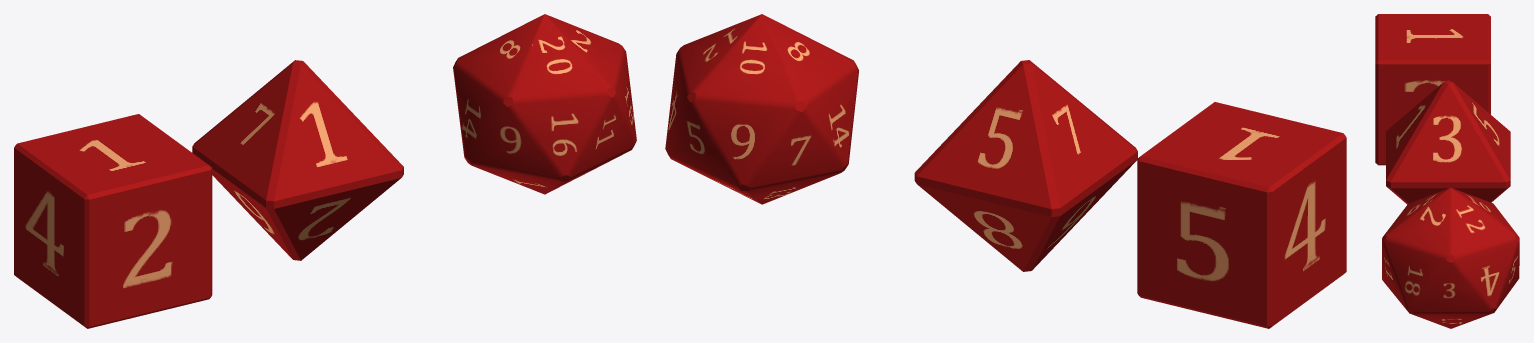
Rendered from Dice.FBX.
The picture shows the model from 3 angles, left to right: view 1: azimuth 30°, elevation 25°; view 2: azimuth 150°, elevation 25°; view 3: azimuth 270°, elevation 25°; orthographic projection. The views are drawn at different scales.
Visible parts, largest first — view 1: Box001, Spindle001, Hedra001; view 2: Box001, Spindle001, Hedra001; view 3: Spindle001, Hedra001, Box001.
Part boxes in pixels (x1,y1,x2,y2): Box001: (14,114,212,328); Spindle001: (453,14,636,194); Hedra001: (192,60,403,260); Box001: (1137,102,1346,328); Spindle001: (665,14,858,204); Hedra001: (914,60,1137,271); Spindle001: (1382,188,1519,328); Hedra001: (1386,80,1510,204); Box001: (1375,14,1490,165).
Bounding box in the file's own units: 3.37 × 1.08 × 0.919.
